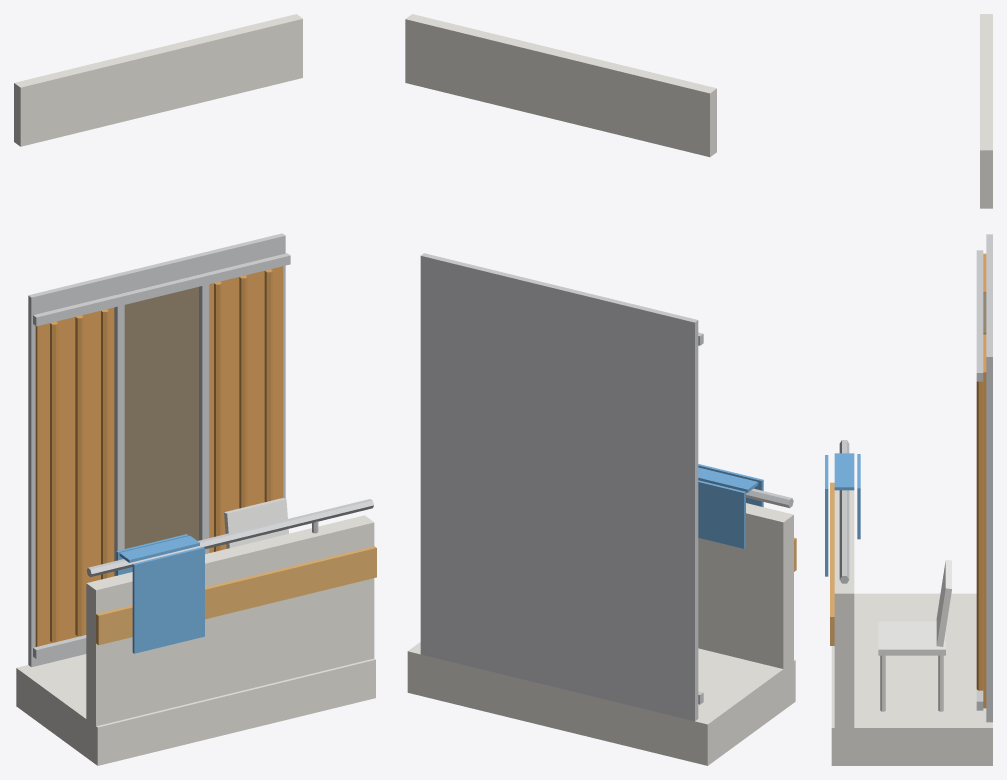
Rendered from HJ_Fachada_A.fbx.
3 renders of one model, left to right at view 1: azimuth 30°, elevation 25°; view 2: azimuth 150°, elevation 25°; view 3: azimuth 270°, elevation 25°, orthographic. The views are drawn at different scales.
Visible parts, largest first — view 1: HJ_Fachada_A; view 2: HJ_Fachada_A; view 3: HJ_Fachada_A.
Part boxes in pixels (x1,y1,x2,y2): HJ_Fachada_A: [14, 14, 376, 765]; HJ_Fachada_A: [405, 14, 796, 765]; HJ_Fachada_A: [825, 14, 992, 765].
Size of the model in its own units: 2 by 4.22 by 1.04.
